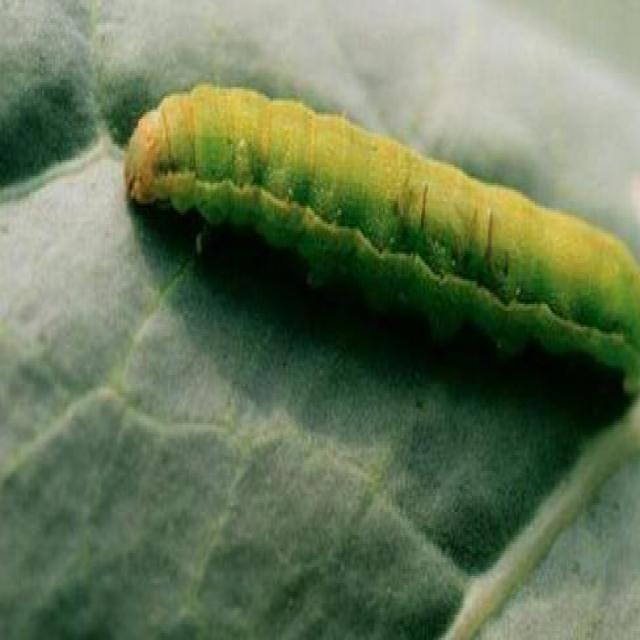BeetArmyWorm-Larva-: (109, 51, 639, 402)
